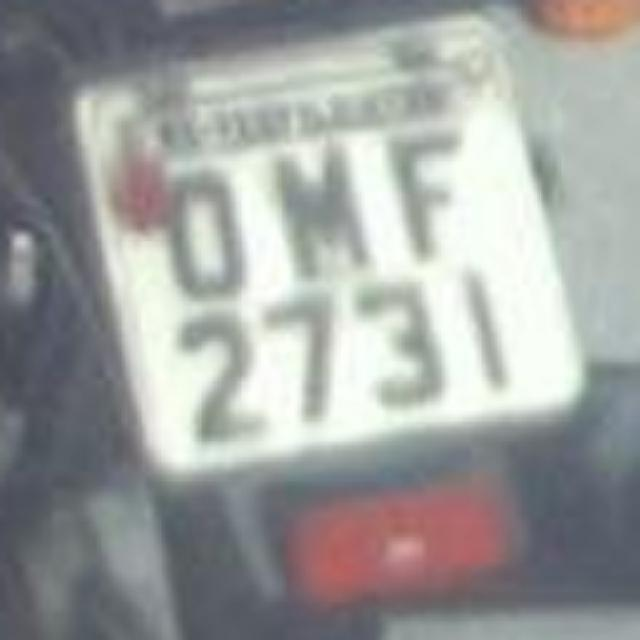1: (445, 264, 520, 391)
2: (152, 300, 280, 452)
3: (328, 272, 460, 412)
7: (244, 288, 351, 424)
F: (372, 120, 480, 268)
M: (260, 132, 372, 288)
N: (255, 124, 380, 284)
